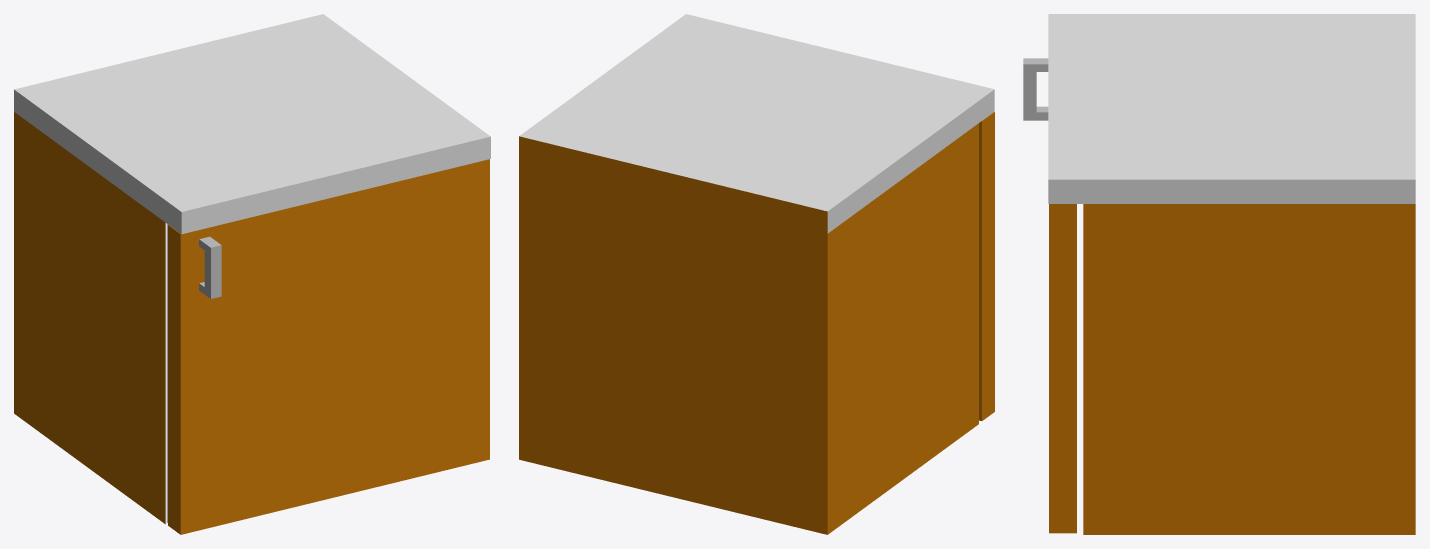
Rendered from sh-contrib-mobile-cucina-60x60.glb.
3 views of the same model, side by side, from view 1: azimuth 30°, elevation 25°; view 2: azimuth 150°, elevation 25°; view 3: azimuth 270°, elevation 25° (orthographic). The views are drawn at different scales.
Visible parts, largest first — view 1: Cube_Cube_Wood_Cherry, Cube_Cube_Material, Cube_Cube_Aluminum; view 2: Cube_Cube_Wood_Cherry, Cube_Cube_Material; view 3: Cube_Cube_Wood_Cherry, Cube_Cube_Material, Cube_Cube_Aluminum.
Boxes of the visible parts, x1=… form: Cube_Cube_Wood_Cherry: x1=14, y1=112, x2=489, y2=534; Cube_Cube_Material: x1=14, y1=14, x2=490, y2=234; Cube_Cube_Aluminum: x1=166, y1=224, x2=221, y2=522; Cube_Cube_Wood_Cherry: x1=519, y1=112, x2=994, y2=534; Cube_Cube_Material: x1=519, y1=14, x2=994, y2=233; Cube_Cube_Wood_Cherry: x1=1049, y1=204, x2=1415, y2=534; Cube_Cube_Material: x1=1048, y1=14, x2=1415, y2=203; Cube_Cube_Aluminum: x1=1023, y1=58, x2=1048, y2=120.
Size of the model in its own units: 1 by 1 by 1.
